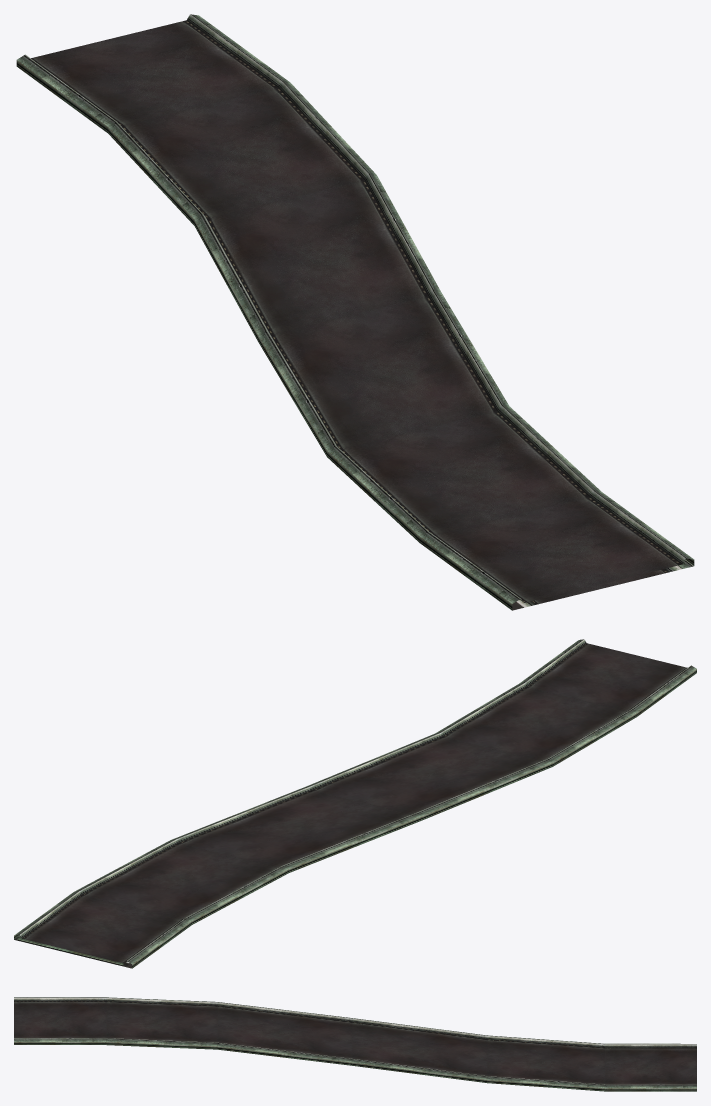
The model's file is Boucle_looping.fbx.
3 views of the same model, one above another, from view 1: azimuth 30°, elevation 25°; view 2: azimuth 150°, elevation 25°; view 3: azimuth 270°, elevation 25° (orthographic). The views are drawn at different scales.
Visible parts, largest first — view 1: Road_BoucleLooping1; view 2: Road_BoucleLooping1; view 3: Road_BoucleLooping1.
Part boxes in pixels (<box>): Road_BoucleLooping1: <box>16,14,694,610</box>; Road_BoucleLooping1: <box>14,639,696,968</box>; Road_BoucleLooping1: <box>14,997,696,1091</box>.
Size of what is drawn, in the model's own units: 37.52 by 1.08 by 120.
